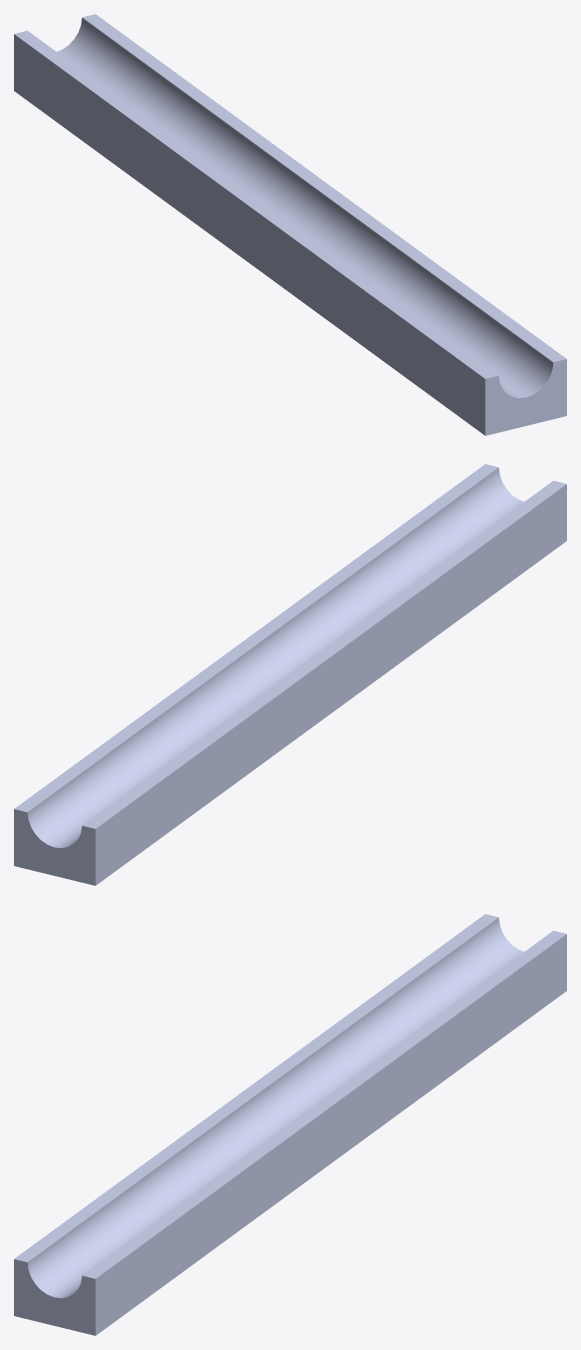
File: beam3.obj
The picture shows the model from 3 angles, top to bottom: view 1: azimuth 30°, elevation 25°; view 2: azimuth 150°, elevation 25°; view 3: azimuth 330°, elevation 25°; orthographic projection.
Parts seen in each view (by area): view 1: mesh 1 beam3; view 2: mesh 1 beam3; view 3: mesh 1 beam3.
Boxes of the visible parts, x1,y1,x2,y2 form: mesh 1 beam3: (14, 14, 566, 435); mesh 1 beam3: (14, 464, 566, 885); mesh 1 beam3: (14, 914, 566, 1335).
Size of the model in its own units: 0.015 by 0.0155 by 0.15.
